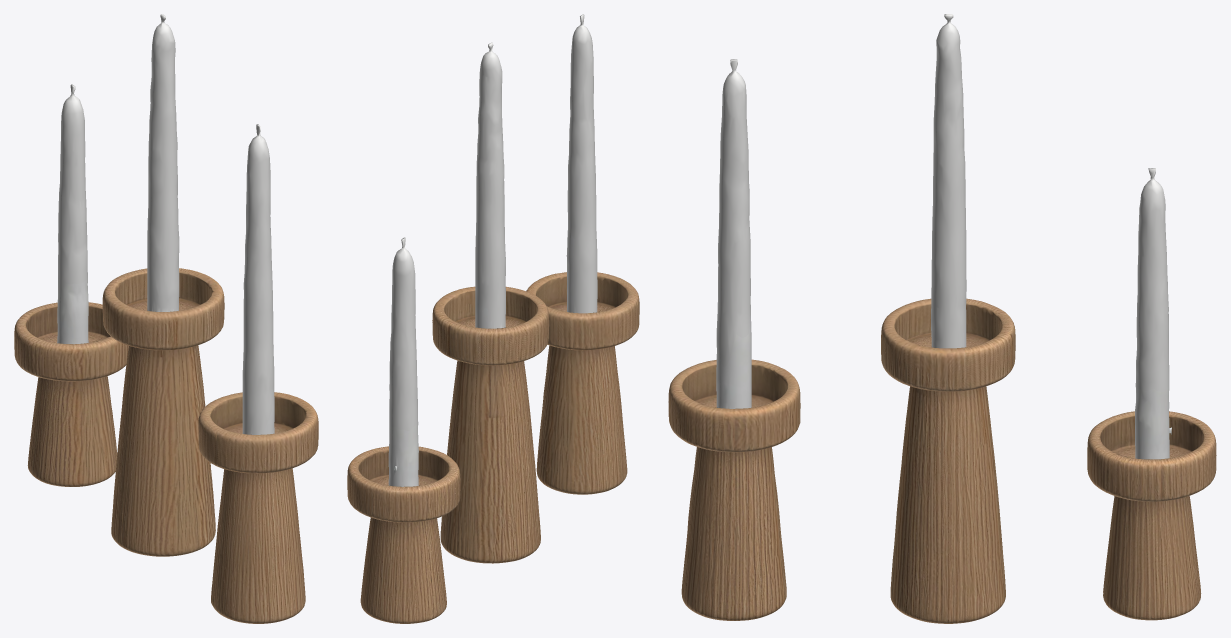
Rendered from decor-candleholders-wood.glb.
3 views of the same model, side by side, from view 1: azimuth 30°, elevation 25°; view 2: azimuth 150°, elevation 25°; view 3: azimuth 270°, elevation 25° (orthographic). The views are drawn at different scales.
Parts seen in each view (by area): view 1: tripo_node_5bd96be0-2fce-4dbf-9d6e-de4398952de0; view 2: tripo_node_5bd96be0-2fce-4dbf-9d6e-de4398952de0; view 3: tripo_node_5bd96be0-2fce-4dbf-9d6e-de4398952de0.
Part boxes in pixels (left/top/right/bottom): tripo_node_5bd96be0-2fce-4dbf-9d6e-de4398952de0: left=14, top=14, right=318, bottom=623; tripo_node_5bd96be0-2fce-4dbf-9d6e-de4398952de0: left=347, top=14, right=639, bottom=623; tripo_node_5bd96be0-2fce-4dbf-9d6e-de4398952de0: left=668, top=14, right=1216, bottom=623.
Bounding box in the file's own units: 0.0528 × 0.25 × 0.2111.
2 materials, 1 textured.
